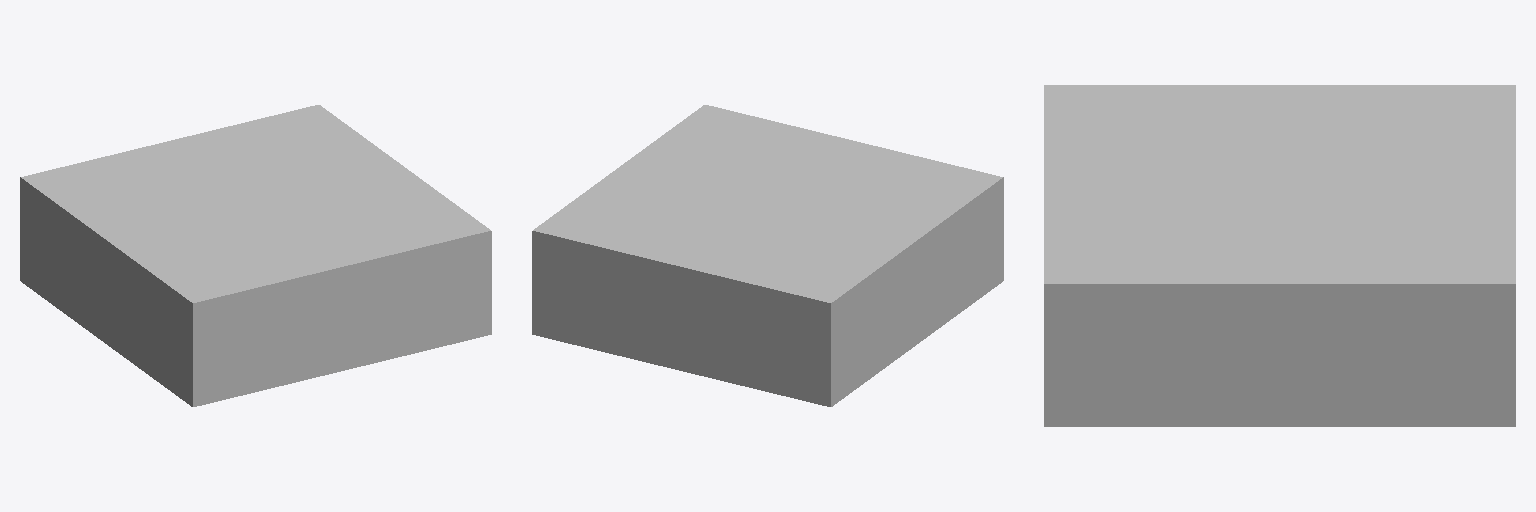
The robot description file, URDF, robot "panda_mobile_base":
<?xml version="1.0" ?>
<robot name="panda_mobile_base" xmlns:xacro="http://www.ros.org/wiki/xacro">

  <!-- World Link (fixed reference frame) -->
  <link name="world"/>

 <link name="world_x_link">
    <inertial>
        <mass value="10.0"/> 
        <inertia ixx="1.0" ixy="0" ixz="0" iyy="1.0" iyz="0" izz="1.0"/>
    </inertial>
  </link>

  <joint name="base_prismatic_x" type="prismatic">
    <parent link="world"/>
    <child link="world_x_link"/>
    <origin xyz="0 0 0.05" rpy="0 0 0"/>
    <axis xyz="1 0 0"/>
    <limit lower="-10" upper="10" effort="100" velocity="0.5"/>
  </joint>

  <joint name="base_prismatic_y" type="prismatic">
    <parent link="world_x_link"/>
    <child link="mobile_base"/>
    <origin xyz="0 0 0" rpy="0 0 0"/>
    <axis xyz="0 1 0"/>
    <limit lower="-10" upper="10" effort="100" velocity="0.5"/>
  </joint>

  <link name="mobile_base">
    <visual>
        <geometry>
          <mesh filename="package://iiwa_description/meshes/iiwa7/visual/mobile_base.stl"/>
        </geometry>
        <material name="panda_gray"/>
      </visual>
      <collision>
        <geometry>
          <mesh filename="package://iiwa_description/meshes/iiwa7/collision/mobile_base.stl"/>
        </geometry>
      </collision>
    <inertial>
      <origin rpy="0 0 0" xyz="0 0 0"/>
      <mass value="30.0"/>
      <inertia ixx="1.0" ixy="0.0" ixz="0.0" iyy="1.0" iyz="0.0" izz="1.0"/>
    </inertial>
  </link>

  <!-- Fixed Joint: Arm Base to Mobile Base -->
  <joint name="arm_mount_joint" type="fixed">
    <origin xyz="0 0 0.1" rpy="0 0 0"/> <!-- Mount arm on top of mobile base -->
    <parent link="mobile_base"/>
    <child link="iiwa_link_0"/>
  </joint>

  <!-- IIWA Arm Links -->
  <link name="iiwa_link_0">
    <visual>
      <geometry>
        <mesh filename="package://iiwa_description/meshes/iiwa7/visual/link_0.stl"/>
      </geometry>
      <material name="panda_gray"/>
    </visual>
    <collision>
      <geometry>
        <mesh filename="package://iiwa_description/meshes/iiwa7/collision/link_0.stl"/>
      </geometry>
    </collision>
    <inertial>
      <origin xyz="-0.10 0 0.07" rpy="0 0 0"/>
      <mass value="5.0"/>
      <inertia ixx="0.05" ixy="0" ixz="0" iyy="0.05" iyz="0" izz="0.05"/>
    </inertial>
  </link>

  <link name="iiwa_link_1">
    <visual>
      <origin xyz="0 0 0.0075" rpy="0 0 0"/>
      <geometry>
        <mesh filename="package://iiwa_description/meshes/iiwa7/visual/link_1.stl"/>
      </geometry>
      <material name="iiwa_orange">
        <color rgba="1.0 0.423529 0.0392157 1.0"/>
      </material>
    </visual>
    <collision>
      <origin xyz="0 0 0.0075" rpy="0 0 0"/>
      <geometry>
        <mesh filename="package://iiwa_description/meshes/iiwa7/collision/link_1.stl"/>
      </geometry>
    </collision>
    <inertial>
      <origin xyz="0 -0.03 0.12" rpy="0 0 0"/>
      <mass value="3.4525"/>
      <inertia ixx="0.02183"  ixy="0"  ixz="0" iyy="0.007703" iyz="-0.003887" izz="0.02083" />
    </inertial>
  </link>

  <link name="iiwa_link_2">
    <visual>
      <geometry>
        <mesh filename="package://iiwa_description/meshes/iiwa7/visual/link_2.stl"/>
      </geometry>
      <material name="iiwa_orange"/>
    </visual>
    <collision>
      <geometry>
        <mesh filename="package://iiwa_description/meshes/iiwa7/collision/link_2.stl"/>
      </geometry>
    </collision>
    <inertial>
      <origin xyz="0.0003 0.059 0.042" rpy="0 0 0"/>
      <mass value="3.4821"/>
      <inertia ixx="0.02076"  ixy="0"  ixz="-0.003626" iyy="0.02179" iyz="0" izz="0.00779" />
    </inertial>
  </link>

  <link name="iiwa_link_3">
    <visual>
      <origin xyz="0 0 -0.026" rpy="0 0 0"/>
      <geometry>
        <mesh filename="package://iiwa_description/meshes/iiwa7/visual/link_3.stl"/>
      </geometry>
      <material name="iiwa_orange"/>
    </visual>
    <collision>
      <origin xyz="0 0 -0.026" rpy="0 0 0"/>
      <geometry>
        <mesh filename="package://iiwa_description/meshes/iiwa7/collision/link_3.stl"/>
      </geometry>
    </collision>
    <inertial>
      <origin xyz="0 0.03 0.13" rpy="0 0 0"/>
      <mass value="4.05623"/>
      <inertia ixx="0.03204"  ixy="0"  ixz="0" iyy="0.00972" iyz="0.006227" izz="0.03042" />
    </inertial>
  </link>

  <link name="iiwa_link_4">
    <visual>
      <geometry>
        <mesh filename="package://iiwa_description/meshes/iiwa7/visual/link_4.stl"/>
      </geometry>
      <material name="iiwa_orange"/>
    </visual>
    <collision>
      <geometry>
        <mesh filename="package://iiwa_description/meshes/iiwa7/collision/link_4.stl"/>
      </geometry>
    </collision>
    <inertial>
      <origin xyz="0 0.067 0.034" rpy="0 0 0"/>
      <mass value="3.4822"/>
      <inertia ixx="0.02178"  ixy="0"  ixz="0" iyy="0.02075" iyz="-0.003625" izz="0.007785" />
    </inertial>
  </link>

  <link name="iiwa_link_5">
    <visual>
      <origin xyz="0 0 -0.026" rpy="0 0 0"/>
      <geometry>
        <mesh filename="package://iiwa_description/meshes/iiwa7/visual/link_5.stl"/>
      </geometry>
      <material name="iiwa_orange"/>
    </visual>
    <collision>
      <origin xyz="0 0 -0.026" rpy="0 0 0"/>
      <geometry>
        <mesh filename="package://iiwa_description/meshes/iiwa7/collision/link_5.stl"/>
      </geometry>
    </collision>
    <inertial>
      <origin xyz="0.0001 0.021 0.076" rpy="0 0 0"/>
      <mass value="2.1633"/>
      <inertia ixx="0.01287"  ixy="0"  ixz="0" iyy="0.005708" iyz="-0.003946" izz="0.01112" />
    </inertial>
  </link>

  <link name="iiwa_link_6">
    <visual>
      <geometry>
        <mesh filename="package://iiwa_description/meshes/iiwa7/visual/link_6.stl"/>
      </geometry>
      <material name="iiwa_orange"/>
    </visual>
    <collision>
      <geometry>
        <mesh filename="package://iiwa_description/meshes/iiwa7/collision/link_6.stl"/>
      </geometry>
    </collision>
    <inertial>
      <origin xyz="0 0.0006 0.0004" rpy="0 0 0"/>
      <mass value="2.3466"/>
      <inertia ixx="0.006509"  ixy="0"  ixz="0" iyy="0.006259" iyz="0.00031891" izz="0.004527" />
    </inertial>
  </link>

  <link name="iiwa_link_7">
    <visual>
      <origin xyz="0 0 -0.0005" rpy="0 0 0"/>
      <geometry>
        <mesh filename="package://iiwa_description/meshes/iiwa7/visual/link_7.stl"/>
      </geometry>
      <material name="panda_gray"/>
    </visual>
    <collision>
      <origin xyz="0 0 -0.0005" rpy="0 0 0"/>
      <geometry>
        <mesh filename="package://iiwa_description/meshes/iiwa7/collision/link_7.stl"/>
      </geometry>
    </collision>
    <inertial>
      <origin xyz="0 0 0.02" rpy="0 0 0"/>
      <mass value="3.129"/>
      <inertia ixx="0.01464"  ixy="0.0005912"  ixz="0" iyy="0.01465" iyz="0" izz="0.002872" />
    </inertial>
  </link>

  <!-- IIWA Arm Joints -->
  <joint name="iiwa_joint_1" type="revolute">
    <origin xyz="0 0 0.15" rpy="0 0 0"/>
    <parent link="iiwa_link_0"/>
    <child link="iiwa_link_1"/>
    <axis xyz="0 0 1"/>
    <limit lower="-2.96706" upper="2.96706" effort="300" velocity="1.4835"/>
    <dynamics damping="0.5"/>
  </joint>

  <joint name="iiwa_joint_2" type="revolute">
    <origin xyz="0 0 0.19" rpy="1.5708 0 3.14159"/>
    <parent link="iiwa_link_1"/>
    <child link="iiwa_link_2"/>
    <axis xyz="0 0 1"/>
    <limit lower="-2.0944" upper="2.0944" effort="300" velocity="1.4835"/>
    <dynamics damping="0.5"/>
  </joint>

  <joint name="iiwa_joint_3" type="revolute">
    <origin xyz="0 0.21 0" rpy="1.5708 0 3.14159"/>
    <parent link="iiwa_link_2"/>
    <child link="iiwa_link_3"/>
    <axis xyz="0 0 1"/>
    <limit lower="-2.96706" upper="2.96706" effort="300" velocity="1.7453"/>
    <dynamics damping="0.5"/>
  </joint>

  <joint name="iiwa_joint_4" type="revolute">
    <origin xyz="0 0 0.19" rpy="1.5708 0 0"/>
    <parent link="iiwa_link_3"/>
    <child link="iiwa_link_4"/>
    <axis xyz="0 0 1"/>
    <limit lower="-2.0944" upper="2.0944" effort="300" velocity="1.3090"/>
    <dynamics damping="0.5"/>
  </joint>

  <joint name="iiwa_joint_5" type="revolute">
    <origin xyz="0 0.21 0" rpy="-1.5708 3.14159 0"/>
    <parent link="iiwa_link_4"/>
    <child link="iiwa_link_5"/>
    <axis xyz="0 0 1"/>
    <limit lower="-2.96706" upper="2.96706" effort="300" velocity="2.2689"/>
    <dynamics damping="0.5"/>
  </joint>

  <joint name="iiwa_joint_6" type="revolute">
    <origin xyz="0 0.0607 0.19" rpy="1.5708 0 0"/>
    <parent link="iiwa_link_5"/>
    <child link="iiwa_link_6"/>
    <axis xyz="0 0 1"/>
    <limit lower="-2.0944" upper="2.0944" effort="300" velocity="2.3562"/>
    <dynamics damping="0.5"/>
  </joint>

  <joint name="iiwa_joint_7" type="revolute">
    <origin xyz="0 0.081 0.0607" rpy="-1.5708 3.14159 0"/>
    <parent link="iiwa_link_6"/>
    <child link="iiwa_link_7"/>
    <axis xyz="0 0 1"/>
    <limit lower="-3.05433" upper="3.05433" effort="300" velocity="2.3562"/>
    <dynamics damping="0.5"/>
  </joint>

  <!-- Materials -->
  <material name="base_grey">
    <color rgba="0.5 0.5 0.5 1.0"/>
  </material>
  <material name="panda_white">
    <color rgba="1. 1. 1. 1."/>
  </material>
  <material name="panda_gray">
    <color rgba=".8 .8 .8 1."/>
  </material>
  <material name="iiwa_orange">
    <color rgba="1.0 0.423529 0.0392157 1.0"/>
  </material>
</robot>

--- What the picture shows (computed from the rendered views, not written in the file) ---
3 views of the same robot in one strip: view 1: azimuth 30°, elevation 25°; view 2: azimuth 150°, elevation 25°; view 3: azimuth 270°, elevation 25° (orthographic).
Robot: panda_mobile_base — 11 links, 10 joints (7 revolute, 2 prismatic, 1 fixed); root link world; default pose: all joints at 0.
Visible links, largest first — view 1: mobile_base; view 2: mobile_base; view 3: mobile_base.
Link boxes in pixels (x1,y1,x2,y2): mobile_base: [20, 105, 491, 406]; mobile_base: [532, 105, 1003, 406]; mobile_base: [1044, 85, 1515, 426].
Size in the robot's own frame: 0.6 by 0.6 by 0.2 metres.
Meshes: 9 distinct files referenced, 1 mesh visuals loaded (1 binary STL); not drawn: 8 (reference not matched to a file when rendering).